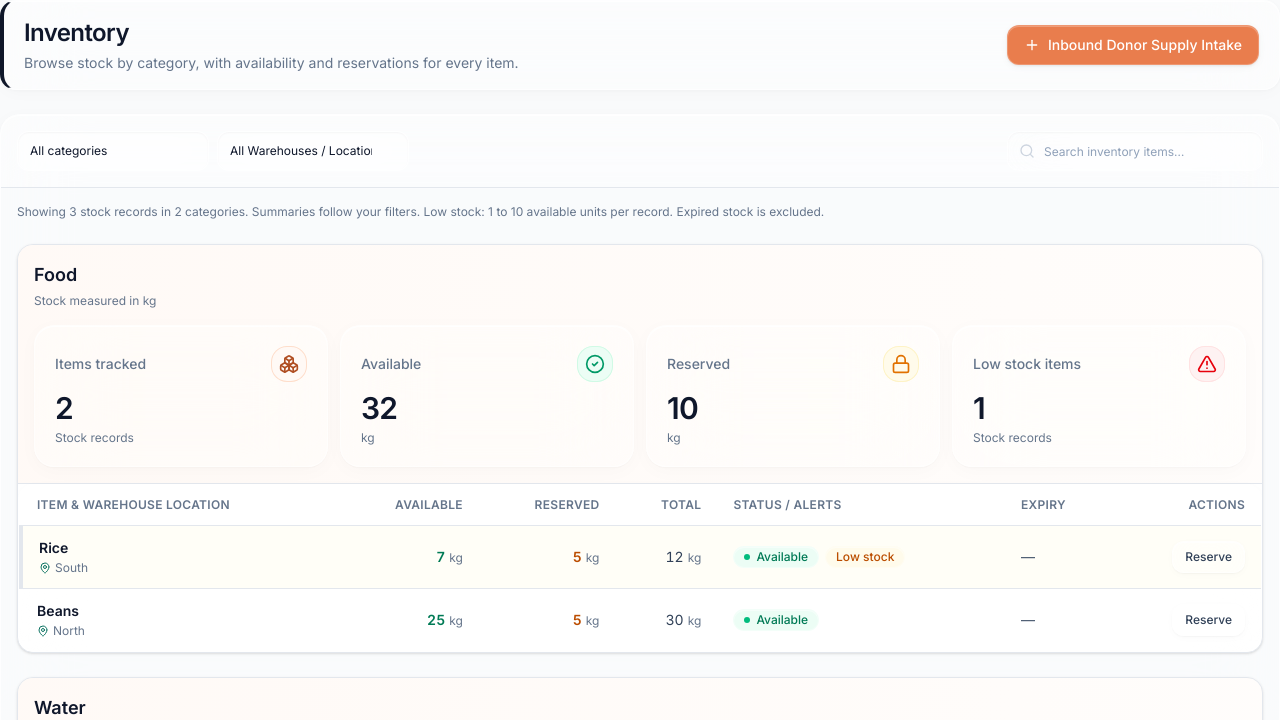
it: category inventory › updates category summaries to match location and search filters
Select "🏢 North" in the dropdown named "Warehouse / location": (313, 151) [217,131,409,171]
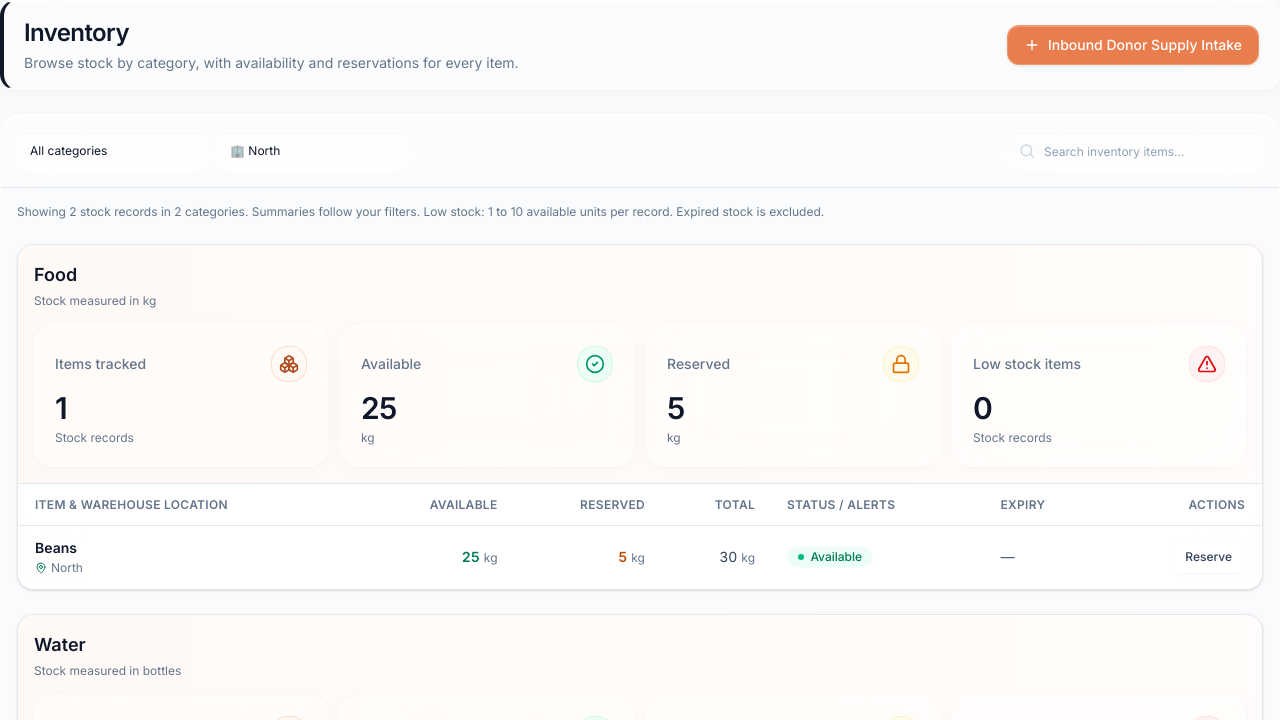
Expected: the text "25" is shown 2 times, [361,390,397,426]; [462,548,480,565]
Expected: the text "Rice" is gone
Expected: the text "32" is gone
In the field labelled "Search inventory": (1135, 151) [1007,131,1263,171], type "water"
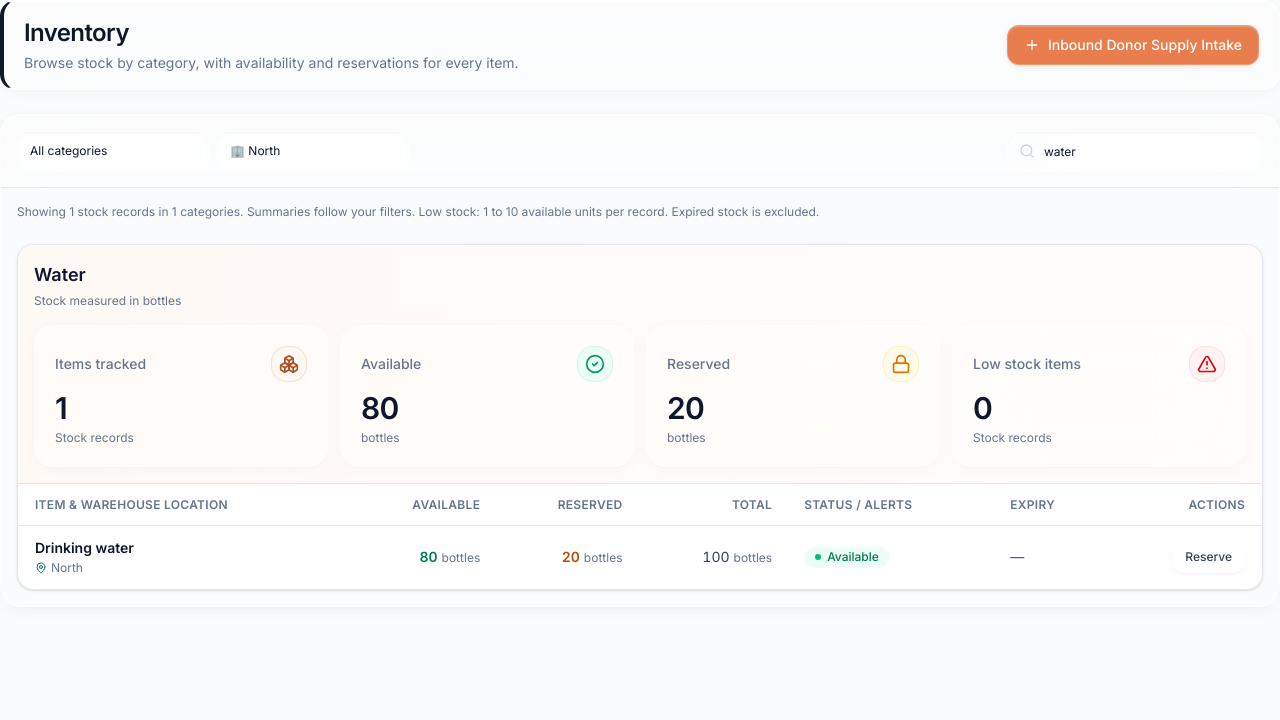
Expected: the element "Water" is shown, [17,244,1263,590]
Expected: the heading "Food" is gone
